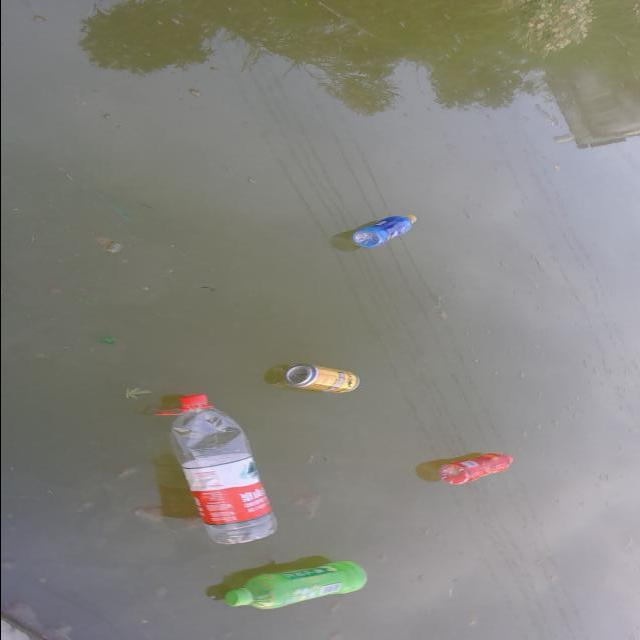bottle: (147, 382, 280, 553), (216, 550, 382, 618), (425, 442, 528, 494), (341, 206, 425, 256)
